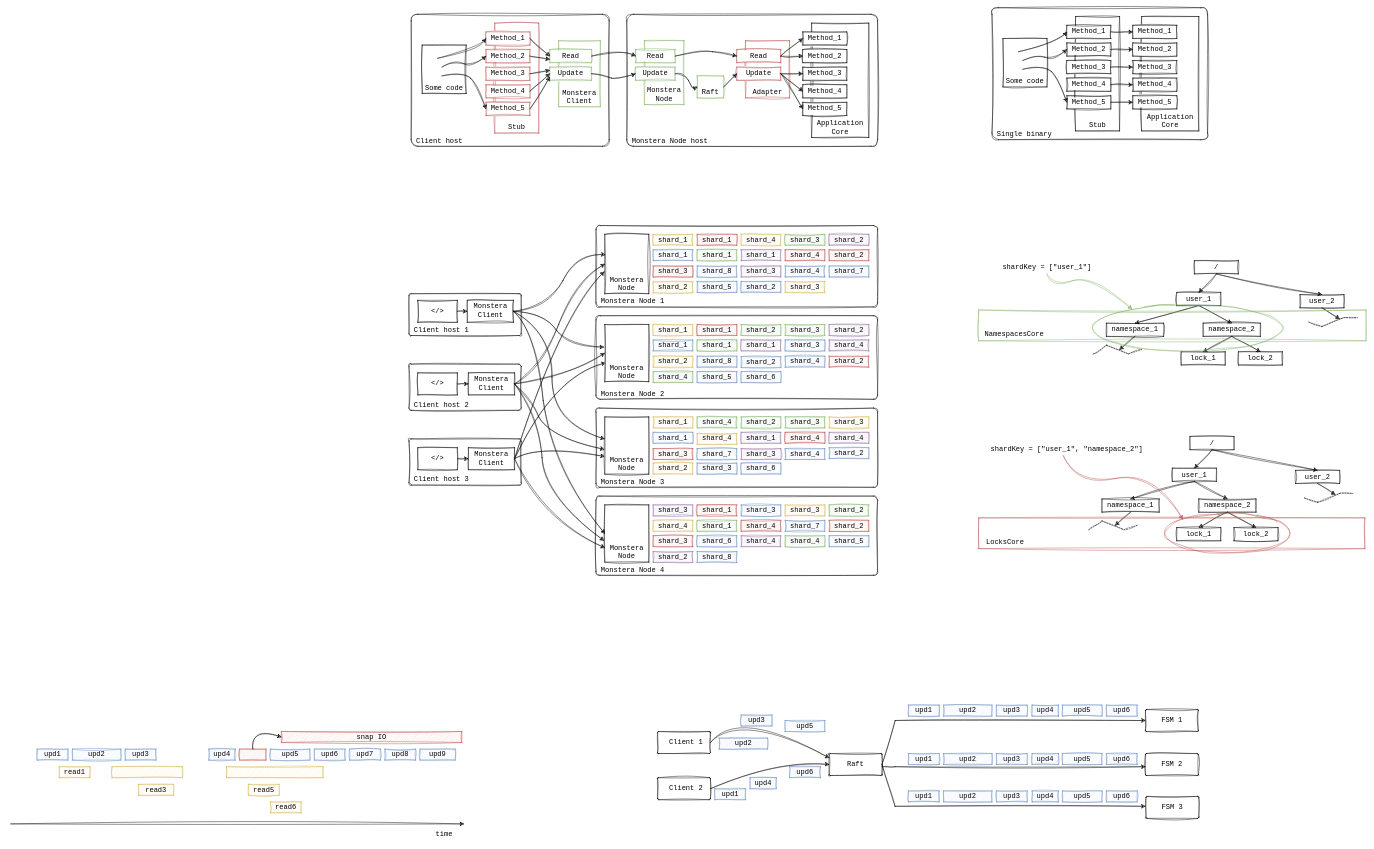
This 1374x849 diagram has some shape labels left out. The centre of each missing label's shape, as x and y in pixels:
"read2" goes at [147,772].
"read4" goes at [274,772].
"snap" goes at [252,754].
